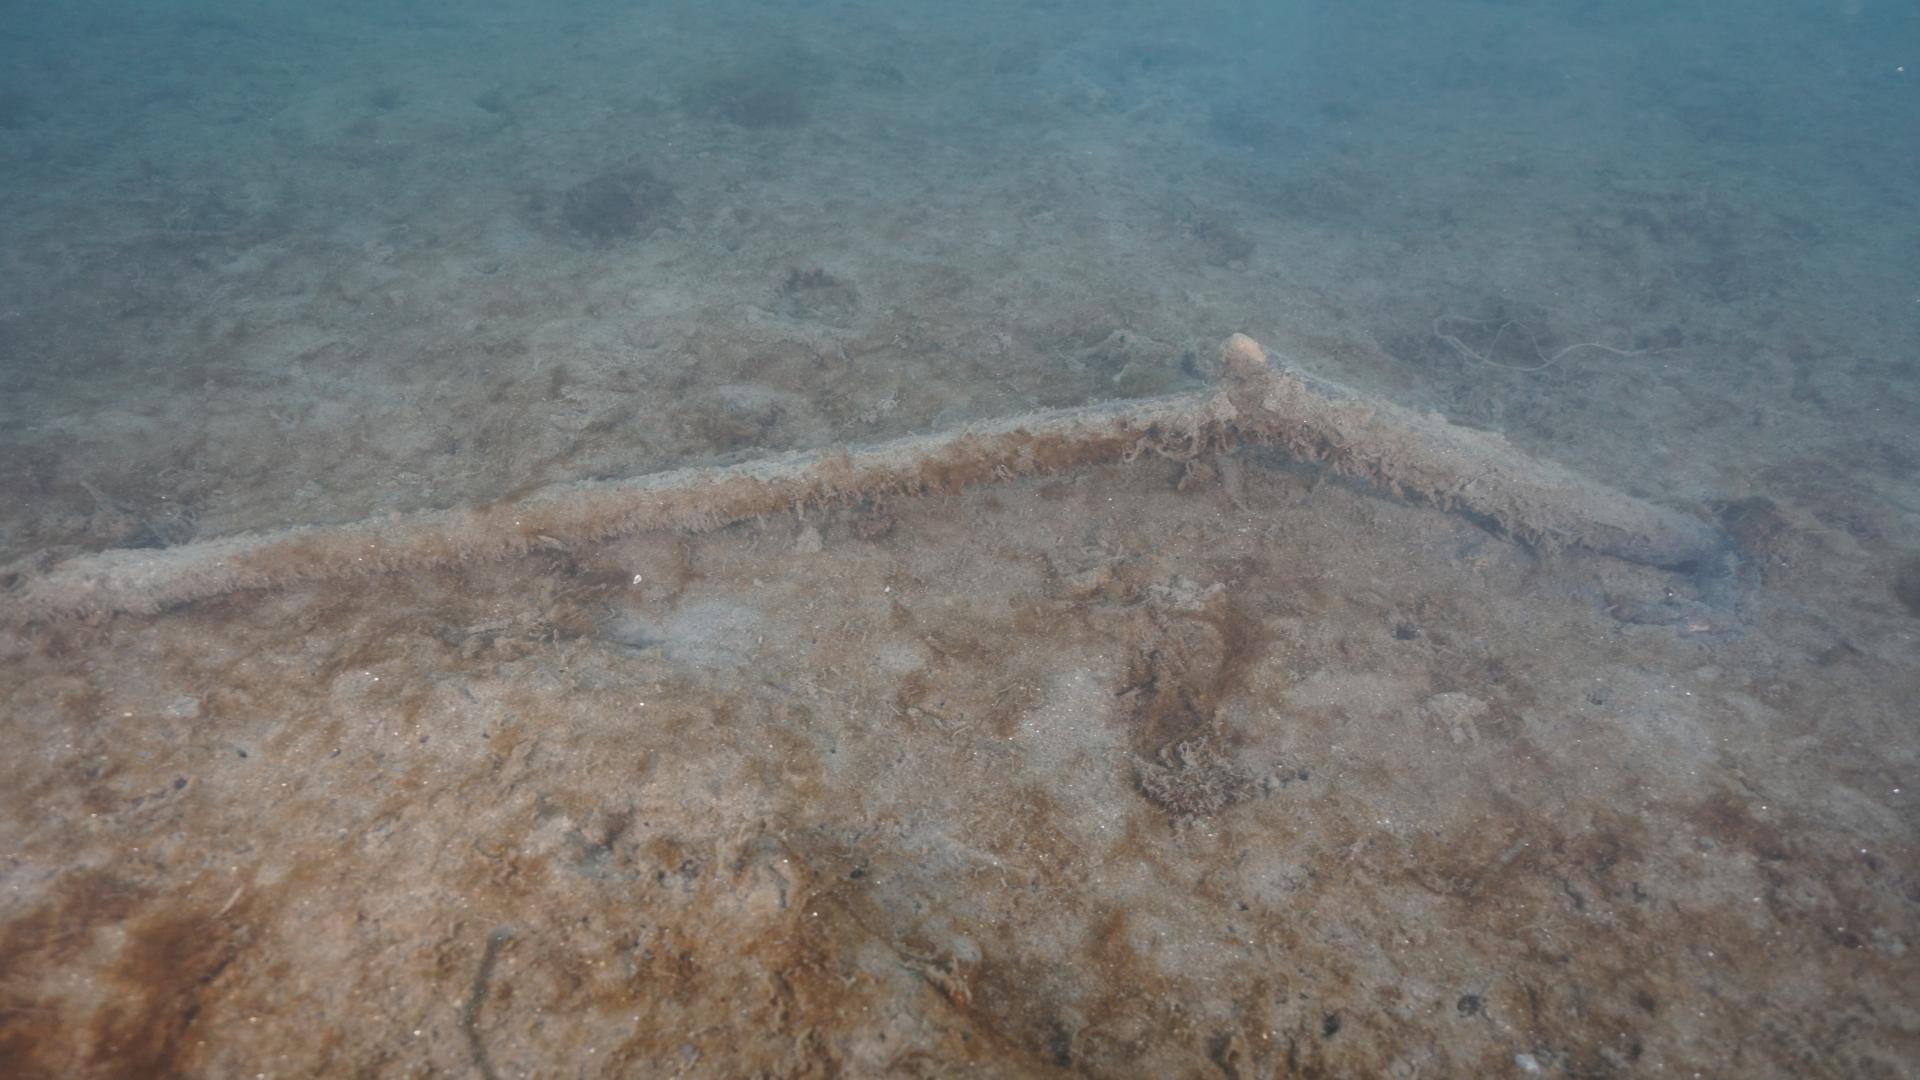wood: (0, 330, 1725, 615)
